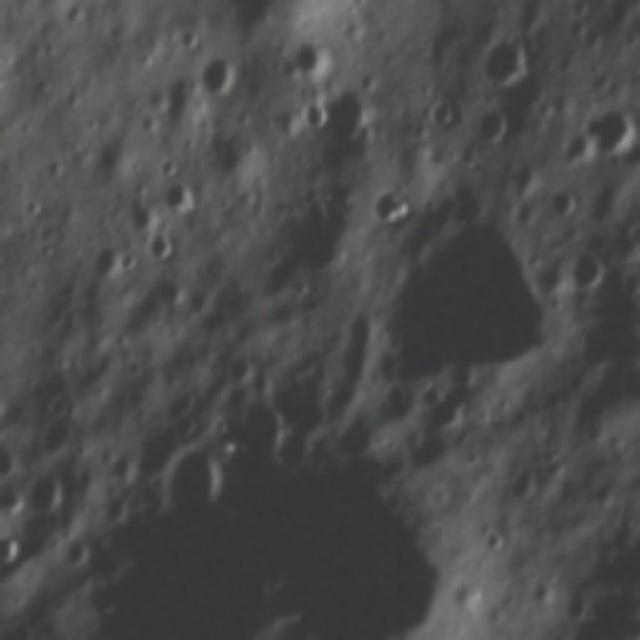crater: (380, 215, 562, 391), (162, 438, 233, 518), (478, 22, 547, 98), (235, 395, 298, 477), (566, 583, 640, 640), (321, 83, 377, 155), (419, 386, 478, 440), (586, 100, 640, 158), (21, 465, 70, 527), (197, 50, 246, 101), (32, 410, 78, 464), (286, 37, 331, 88), (158, 168, 202, 220), (469, 106, 516, 154), (551, 126, 594, 176), (360, 191, 412, 232), (56, 528, 98, 572), (128, 191, 167, 237), (570, 248, 612, 290), (85, 238, 122, 284), (448, 576, 488, 618), (98, 489, 138, 528), (299, 94, 332, 141), (510, 459, 544, 504), (545, 185, 580, 221), (0, 437, 26, 485), (615, 364, 640, 413), (428, 96, 460, 132), (145, 228, 177, 264), (544, 448, 570, 490), (179, 17, 207, 54), (478, 524, 507, 558), (0, 528, 23, 568), (0, 478, 25, 514), (157, 150, 183, 182), (46, 152, 68, 188), (65, 1, 89, 32), (120, 248, 143, 277)
